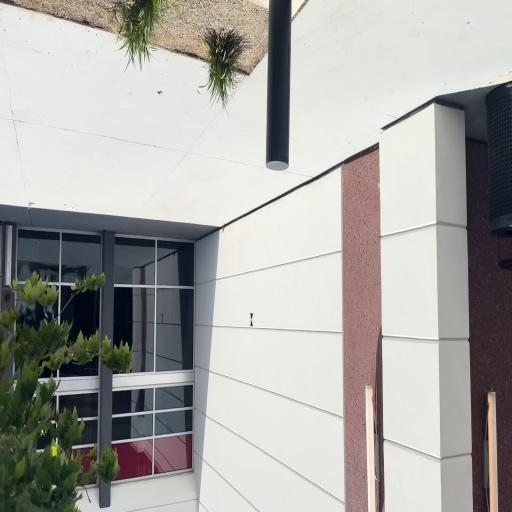target7: (250, 312, 254, 326)
